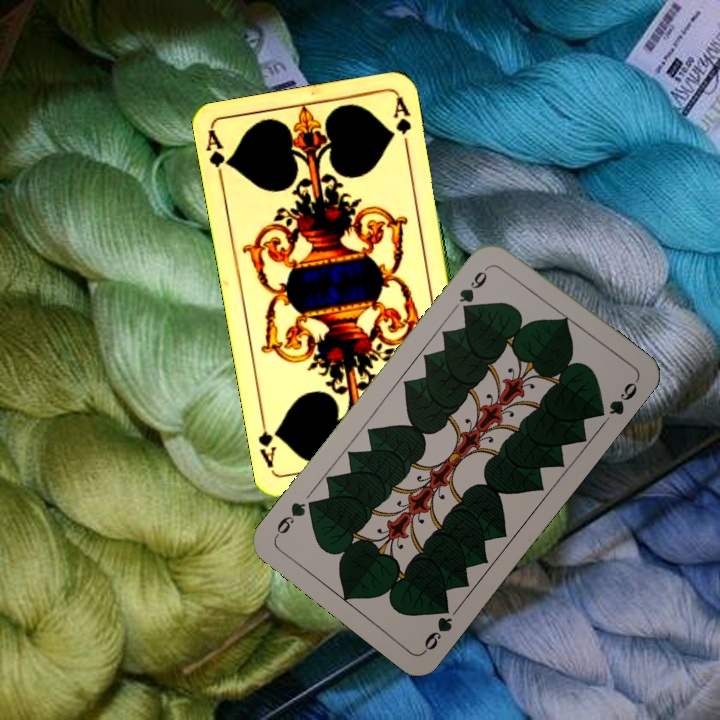G9: (454, 261, 493, 316), (420, 598, 455, 655)
GA: (202, 127, 234, 186)
